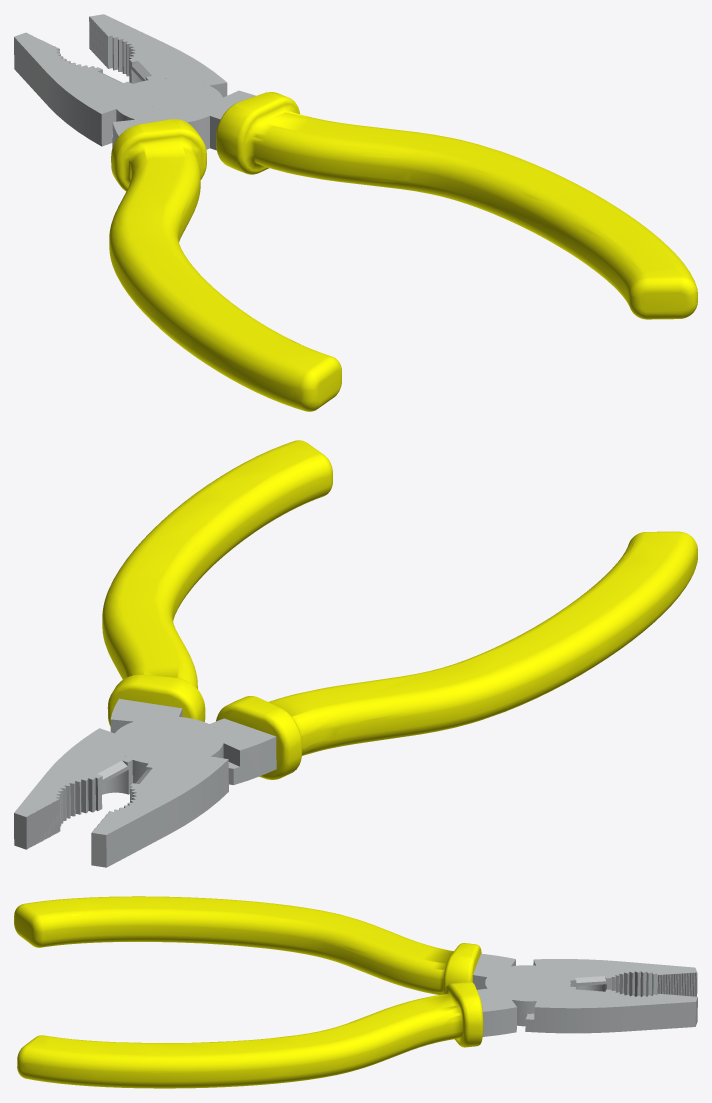
The model's file is Plier_A_V02.fbx.
The picture shows the model from 3 angles, top to bottom: view 1: azimuth 30°, elevation 25°; view 2: azimuth 150°, elevation 25°; view 3: azimuth 270°, elevation 25°; orthographic projection. The views are drawn at different scales.
Visible parts, largest first — view 1: Plier_A_02_0, Plier_A_02_02, Plier_A_02_04, Plier_A_02_03; view 2: Plier_A_02_02, Plier_A_02_0, Plier_A_02_04, Plier_A_02_03; view 3: Plier_A_02_0, Plier_A_02_02, Plier_A_02_04, Plier_A_02_03.
Boxes of the visible parts, x1=… form: Plier_A_02_0: x1=216, y1=92, x2=697, y2=319; Plier_A_02_02: x1=109, y1=119, x2=341, y2=411; Plier_A_02_04: x1=14, y1=32, x2=255, y2=150; Plier_A_02_03: x1=89, y1=14, x2=227, y2=149; Plier_A_02_02: x1=216, y1=531, x2=697, y2=779; Plier_A_02_0: x1=102, y1=440, x2=332, y2=726; Plier_A_02_04: x1=91, y1=698, x2=228, y2=867; Plier_A_02_03: x1=14, y1=718, x2=276, y2=849; Plier_A_02_0: x1=17, y1=981, x2=483, y2=1088; Plier_A_02_02: x1=14, y1=896, x2=481, y2=994; Plier_A_02_04: x1=477, y1=959, x2=697, y2=1036; Plier_A_02_03: x1=473, y1=953, x2=697, y2=1033.
Size of the model in its own units: 14.98 by 2.07 by 25.51.
Materials: 1 (1 with a texture image).
